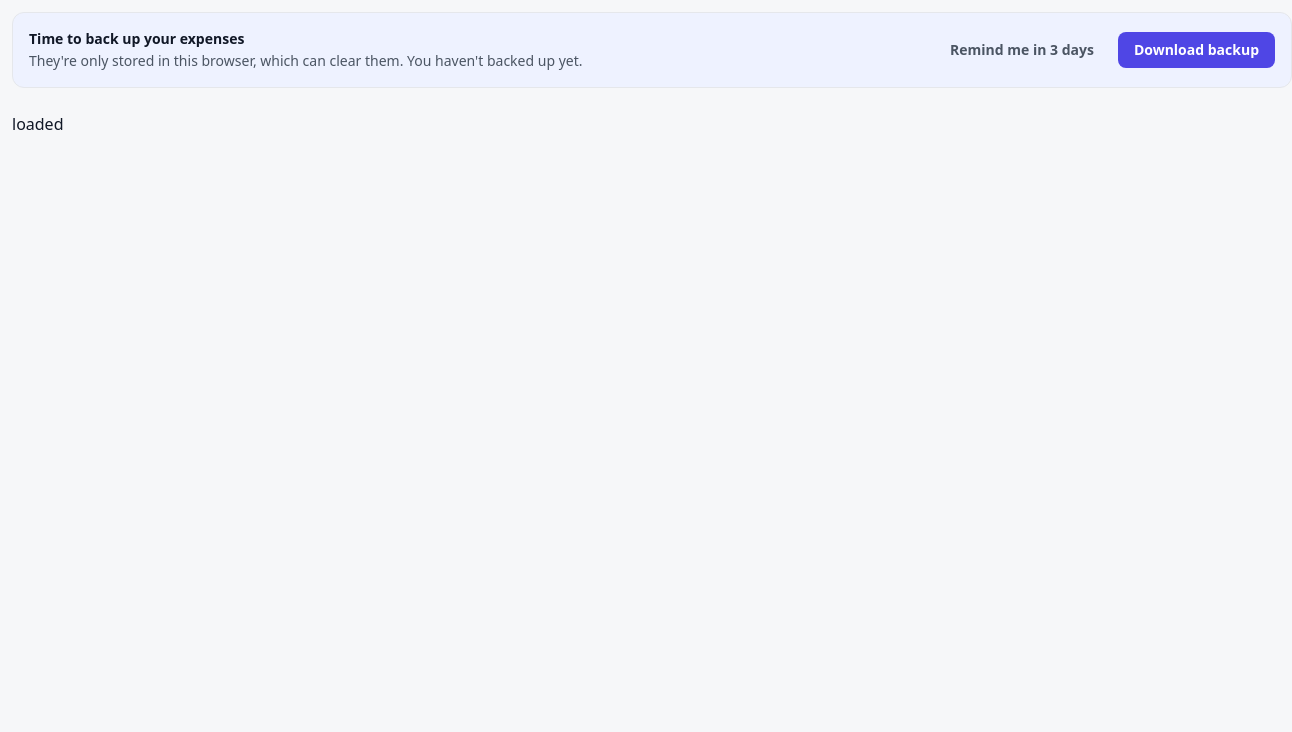
Test: BackupReminder › offers a full JSON backup when one is overdue, then hides
Expected: the text "loaded" is shown, [12, 113, 64, 135]
Expected: the heading "Time to back up your expenses" is shown, [29, 29, 244, 48]
What coordinates should you click on to do the following:
click the button "Download backup"
I would click on:
 (1196, 50)
Its box is [1118, 32, 1275, 68].
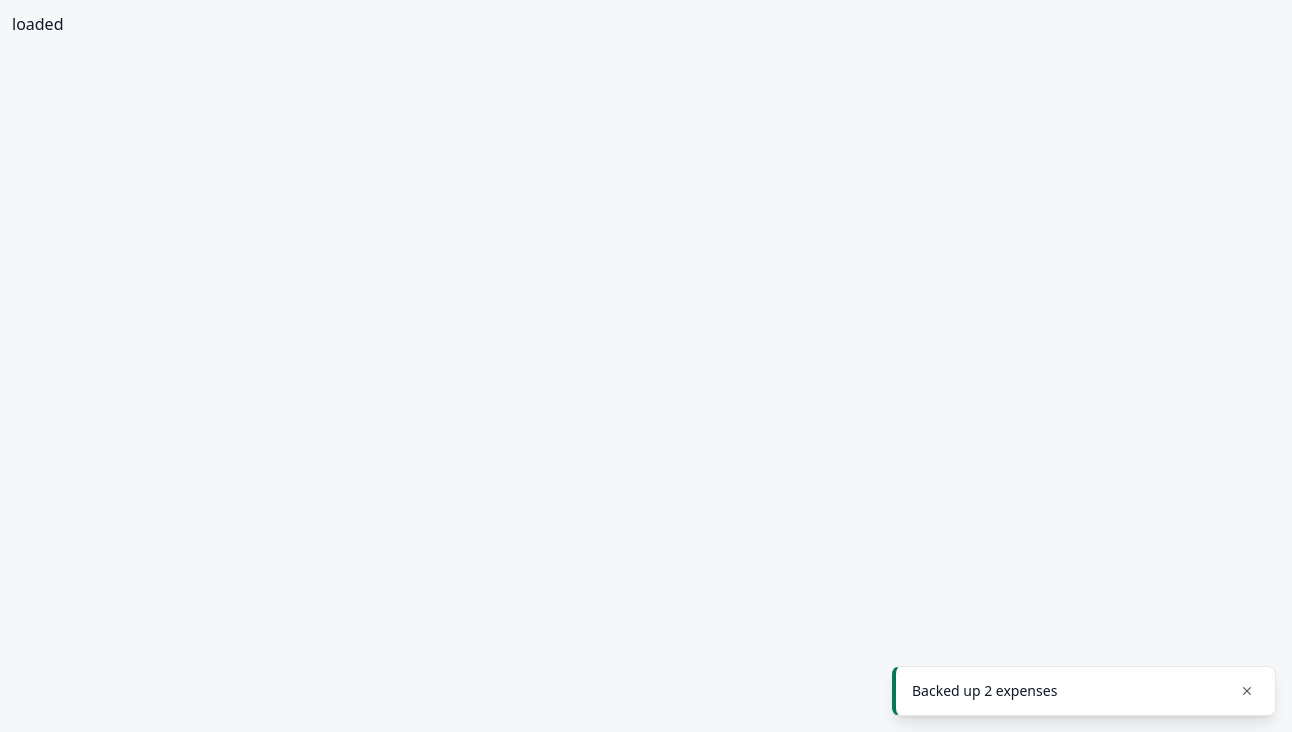
Result: the heading "Time to back up your expenses" is gone
Result: the text "Backed up 2 expenses" is shown at [912, 681, 1057, 700]
